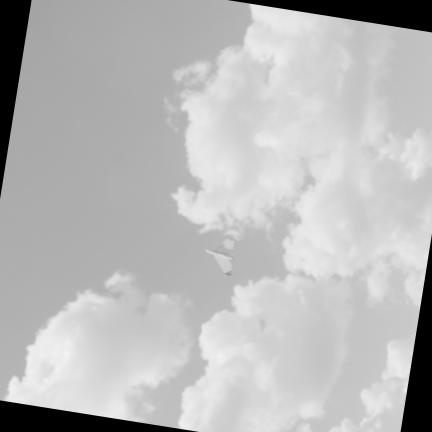Shahed: (206, 238, 234, 275)
